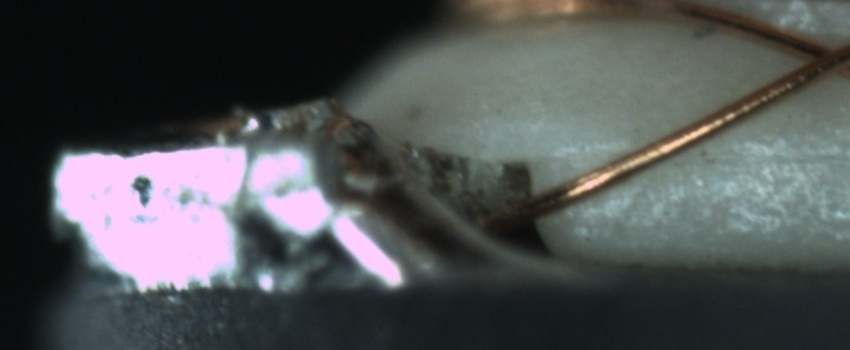CL: (794, 31, 848, 84)
DL: (614, 119, 849, 187)
